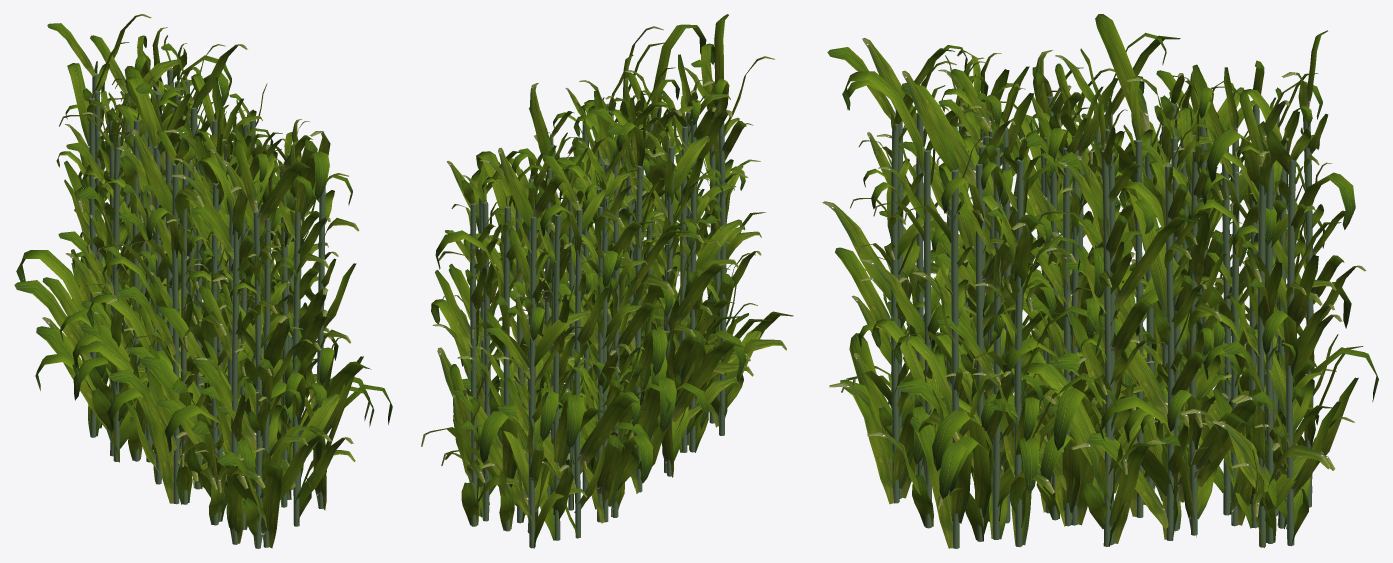
File: milharal3x9_denso.fbx
The picture shows the model from 3 angles, left to right: view 1: azimuth 30°, elevation 25°; view 2: azimuth 150°, elevation 25°; view 3: azimuth 270°, elevation 25°; orthographic projection. The views are drawn at different scales.
Visible parts, largest first — view 1: Plantacao2; view 2: Plantacao2; view 3: Plantacao2.
Part boxes in pixels (x1,y1,x2,y2): Plantacao2: (14, 14, 392, 548); Plantacao2: (421, 14, 793, 548); Plantacao2: (822, 14, 1378, 548).
Size of the model in its own units: 667 by 1068 by 1148.
